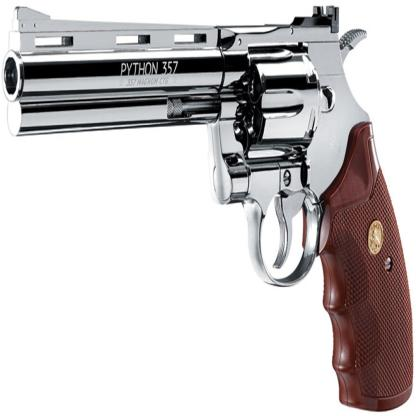handgun: (5, 3, 416, 415)
